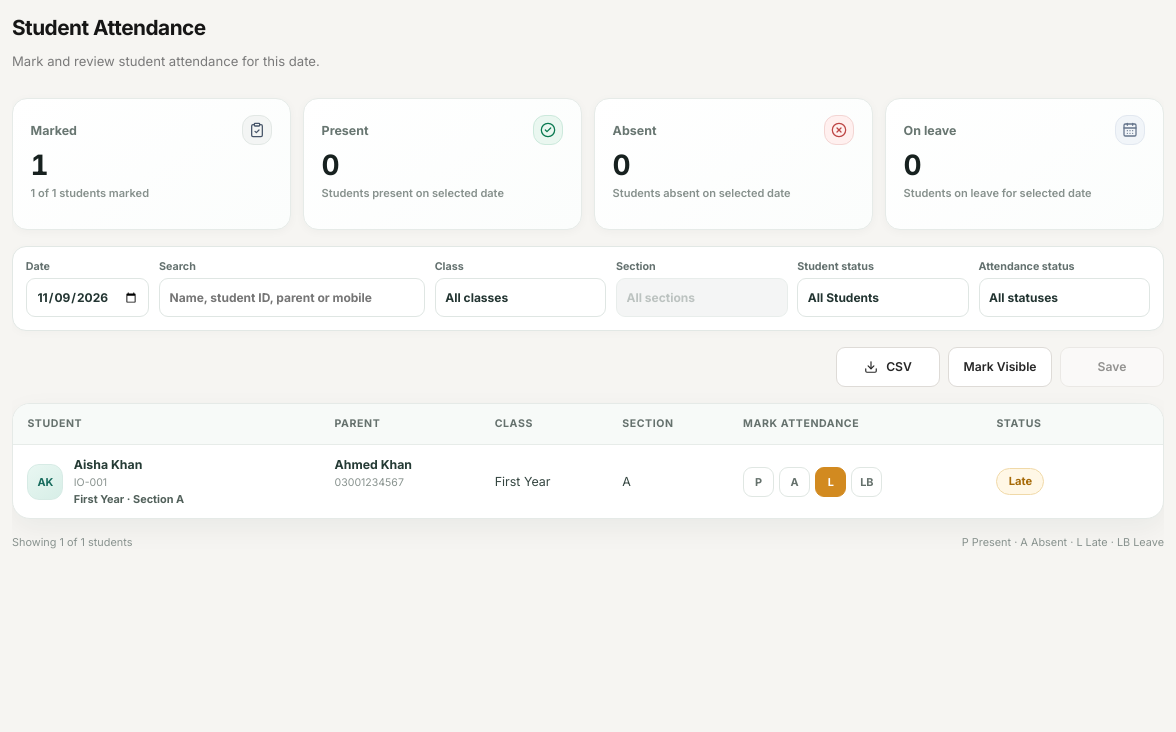
AttendanceStudentsWorkspace › filters the student list by attendance status
Expected: the text "Aisha Khan" is shown, [74,458,142,472]
Select "Late" in the dropdown labelled "Attendance status": coordinates (1064, 298) [978,278,1150,317]
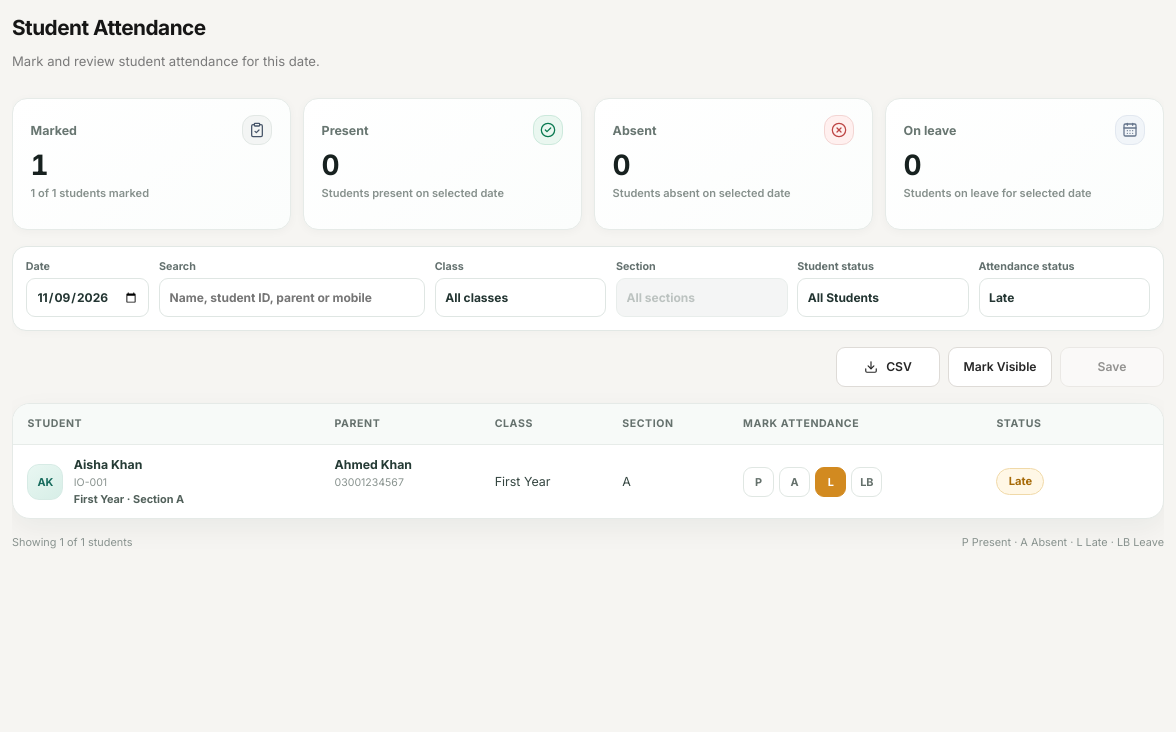
Expected: the text "Aisha Khan" is shown, [74,458,142,472]
Select "Absent" in the dropdown labelled "Attendance status": coordinates (1064, 298) [978,278,1150,317]
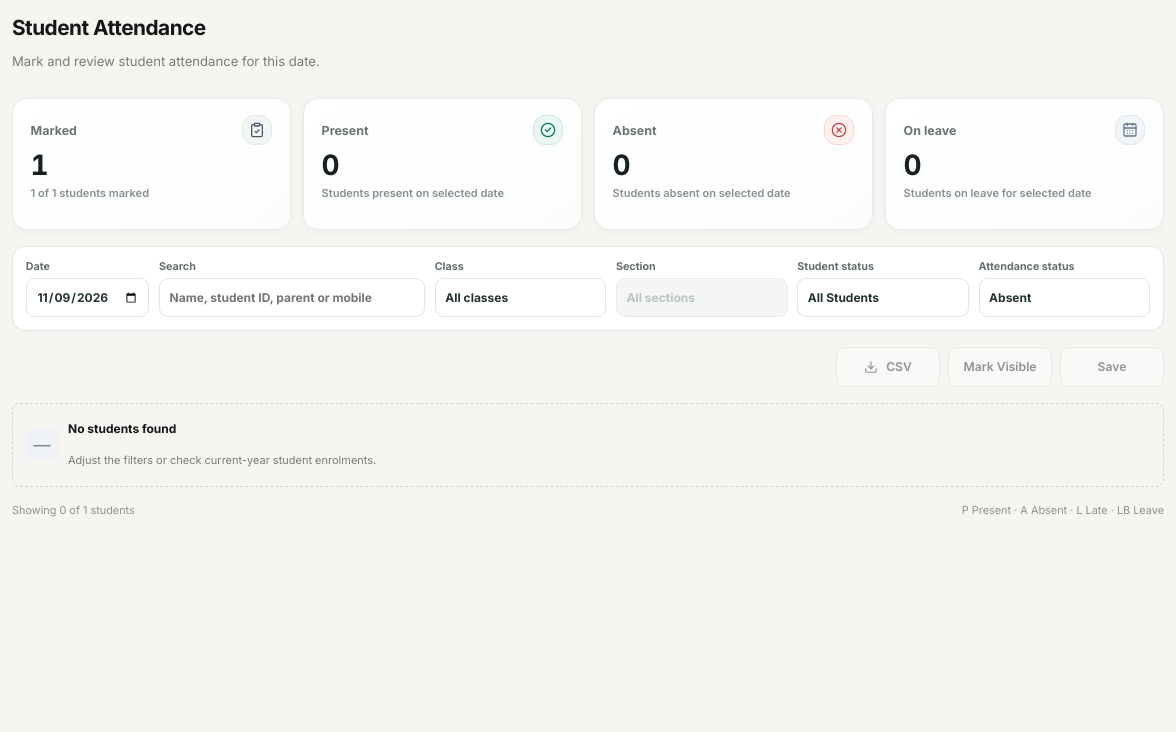
Expected: the heading "No students found" is shown, [68,421,176,436]
